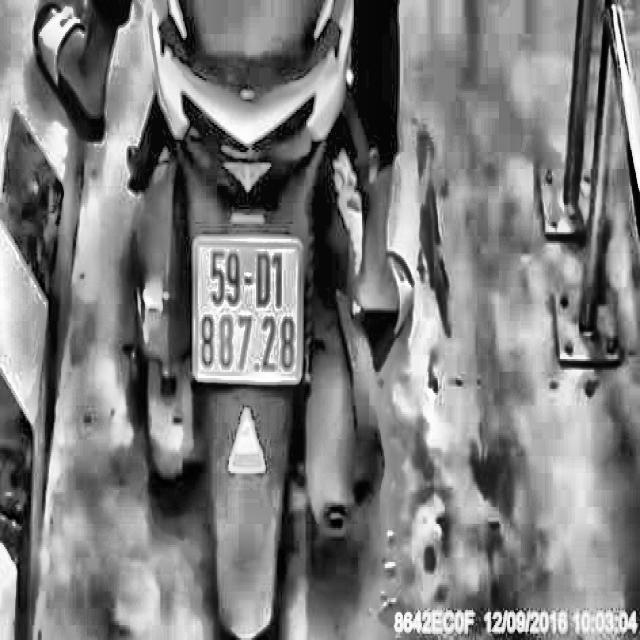plate: (189, 224, 309, 391)
